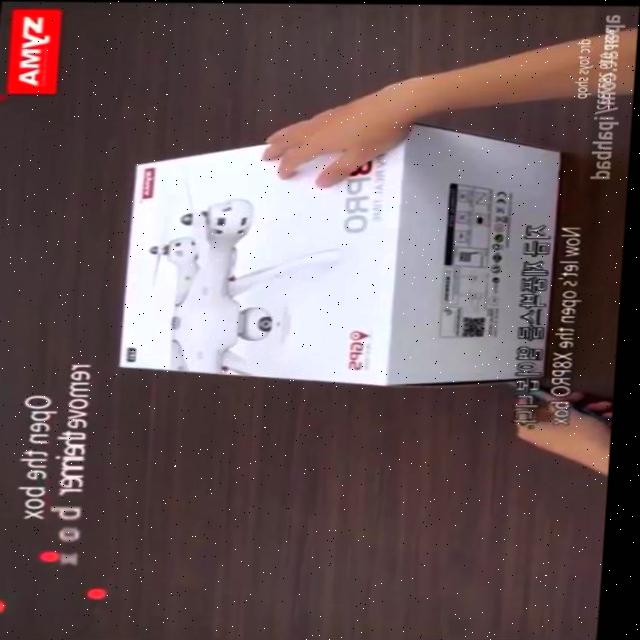drone: (148, 175, 333, 379)
